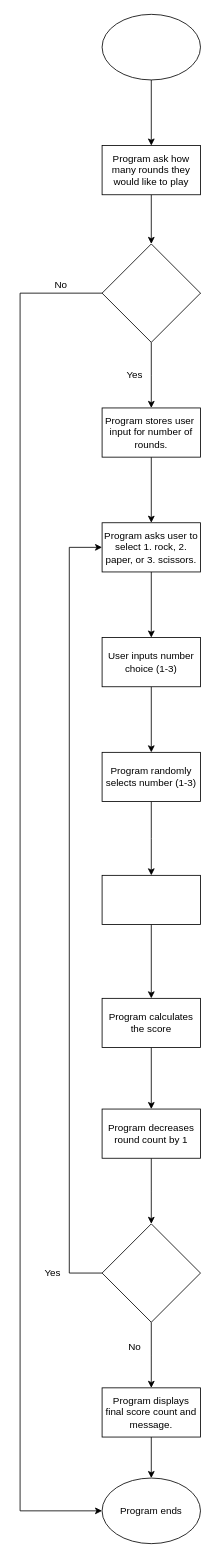
The diagram is 221 pixels wide and 1558 high, and some of its shapes have lost their labels. Here are the shapes that lost their labels. From the top down, the centre of each, then its label:
At point 150,47: "User starts RockPaperScissors".
At point 150,292: "Did user input # between 1 &10?".
At point 150,900: "Program Calculates winner".
At point 150,1272: "Is round count greater than 0?".
